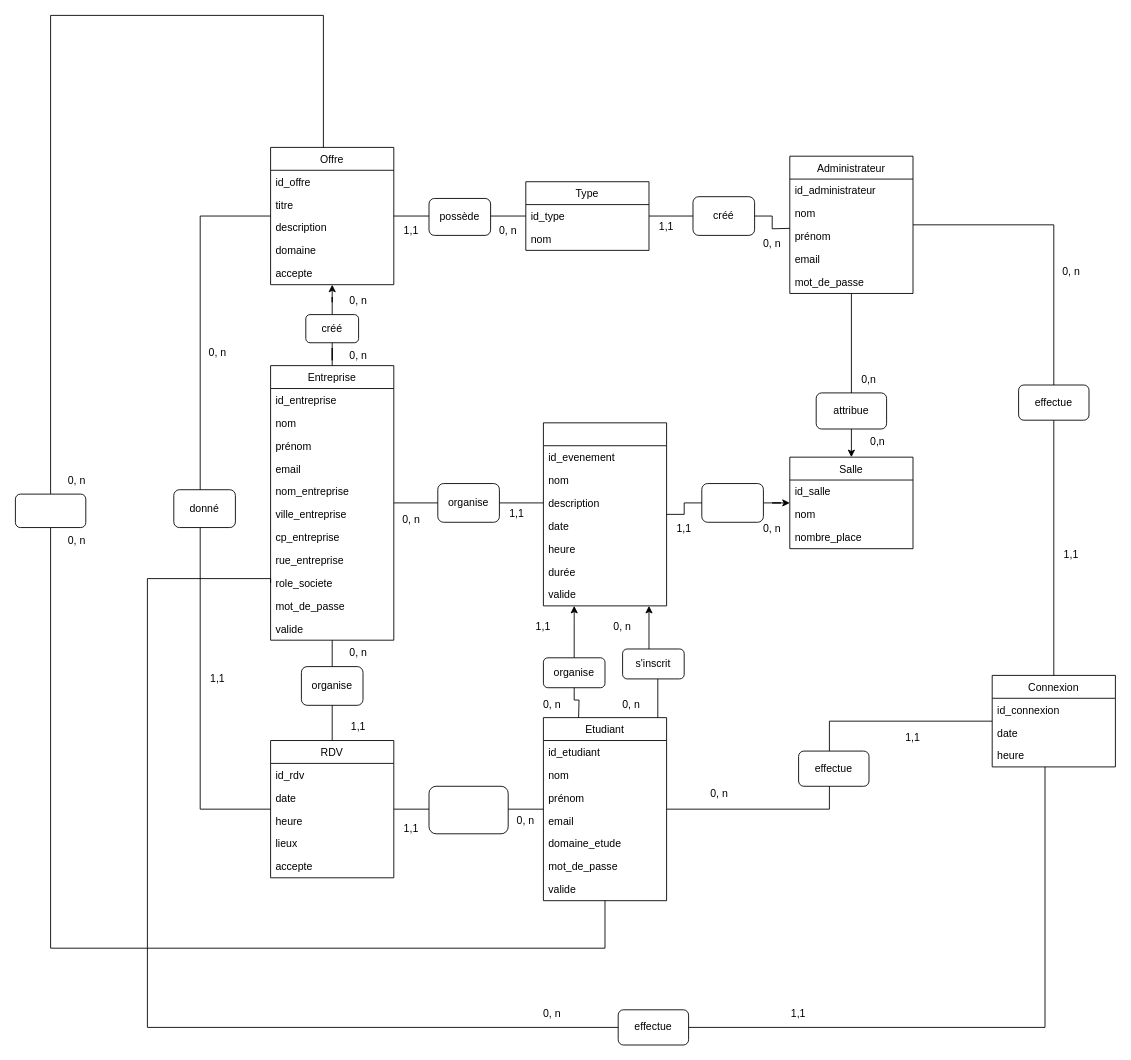
This 1131x1060 diagram has some shape labels left out. Here are the shapes that lost their labels. From the top down, the box of each, then its label:
(15, 493, 86, 528): postule
(543, 422, 667, 606): Evènement
(701, 483, 763, 522): affilié
(428, 785, 508, 834): invité
